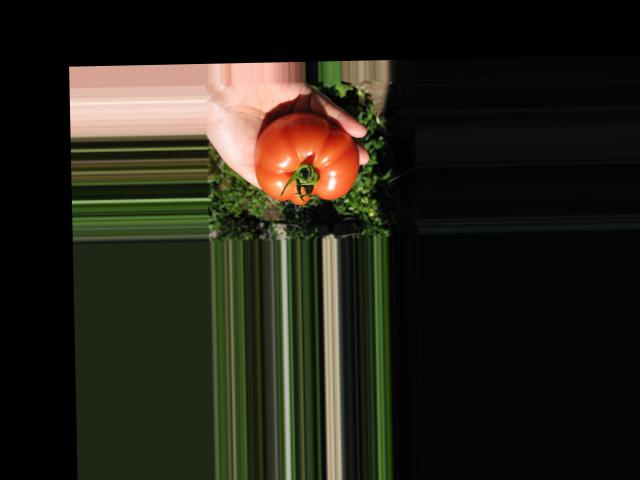tomato: (254, 112, 360, 205)
